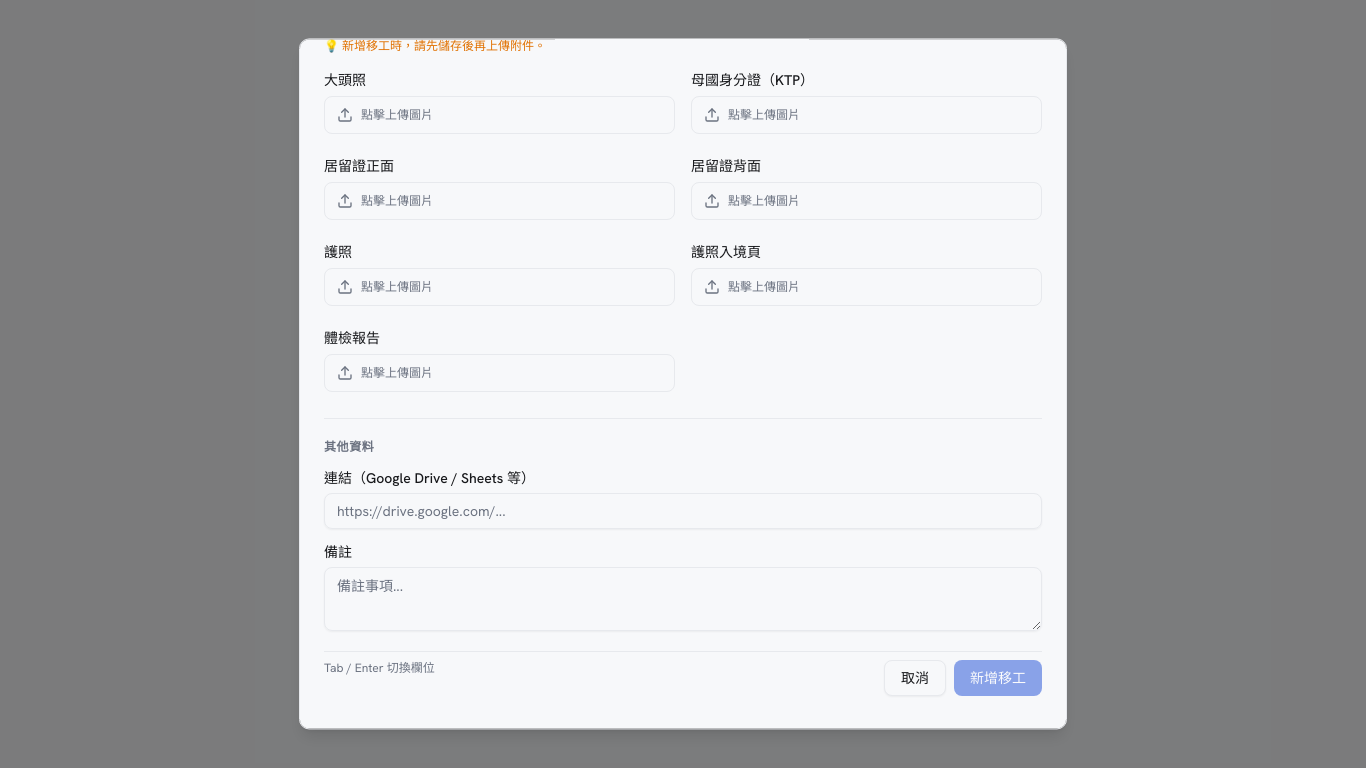
WorkerModal 的必填判斷 › tooltip 列出缺少的欄位
(page scrolled)
Hover over the element with test id "worker-modal-submit-wrap" at (998,679), box [954,661,1042,697]
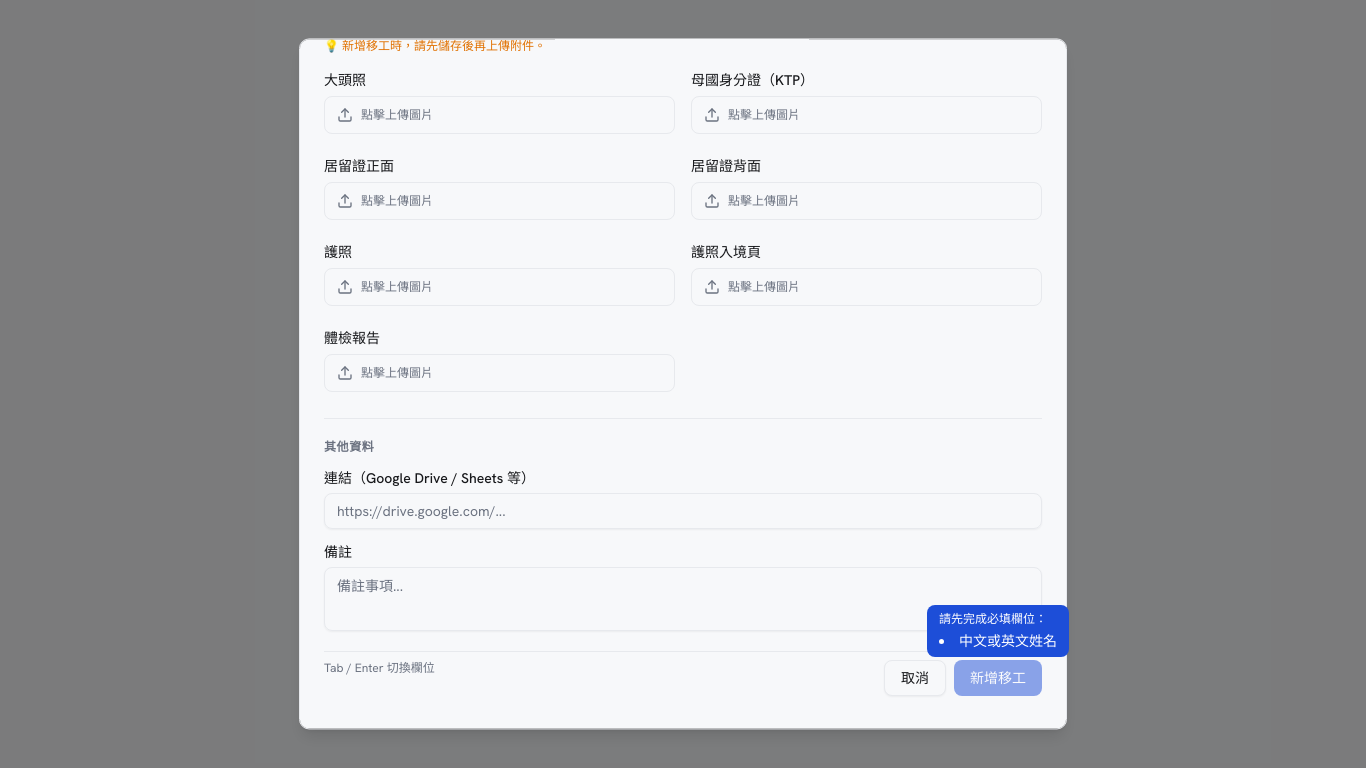
Result: the tooltip shows "中文或英文姓名" at [959,632,1057,650]
